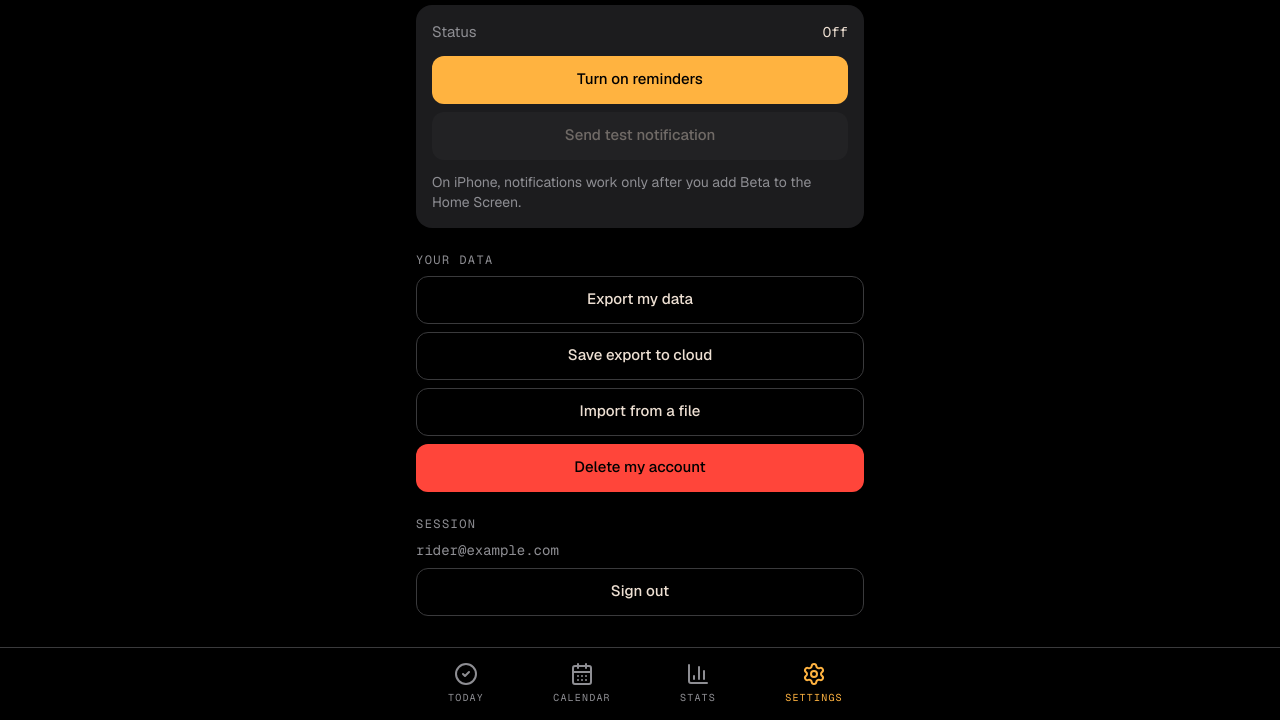
it: Settings › delete account › takes the password and signs out afterwards
(page scrolled)
Click the 6th button named "Delete my account" at (640, 468), box 416,444 -> 864,492
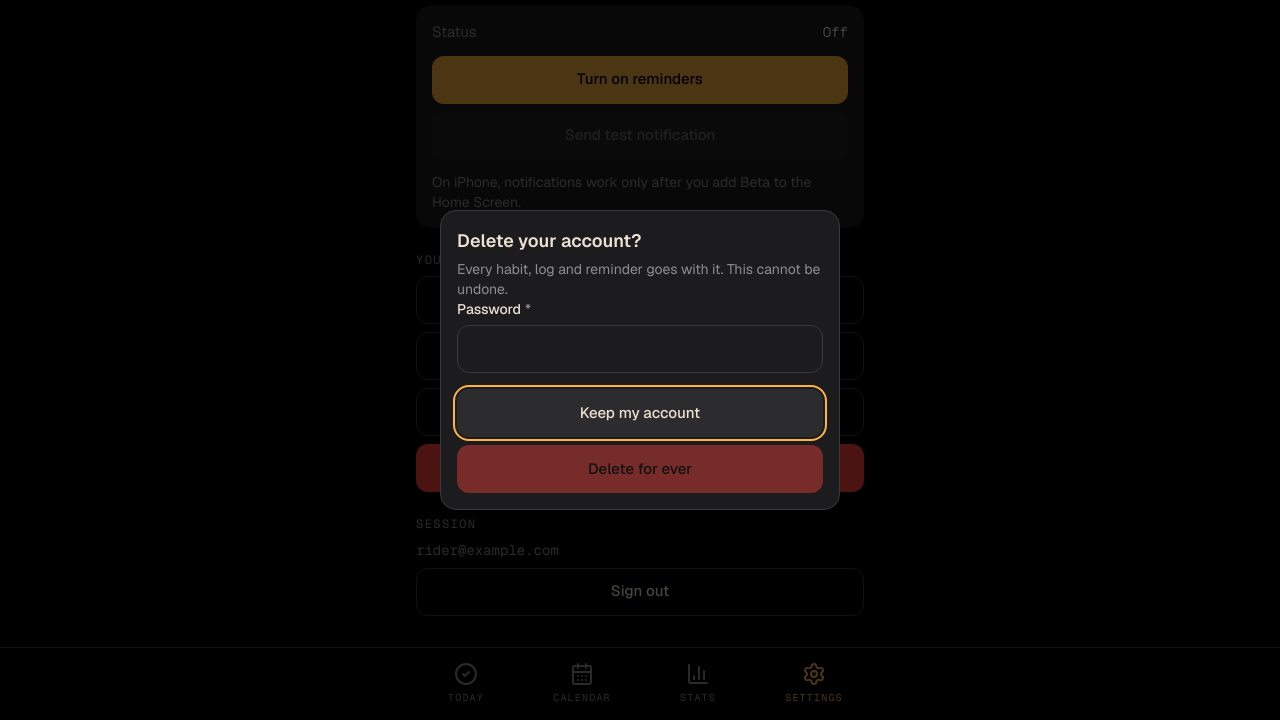
Now the button "Delete for ever" is disabled, box 457,445 -> 823,493
Type "correct-horse-battery" into the password field labelled "Password*" at (640, 349), box 457,325 -> 823,373
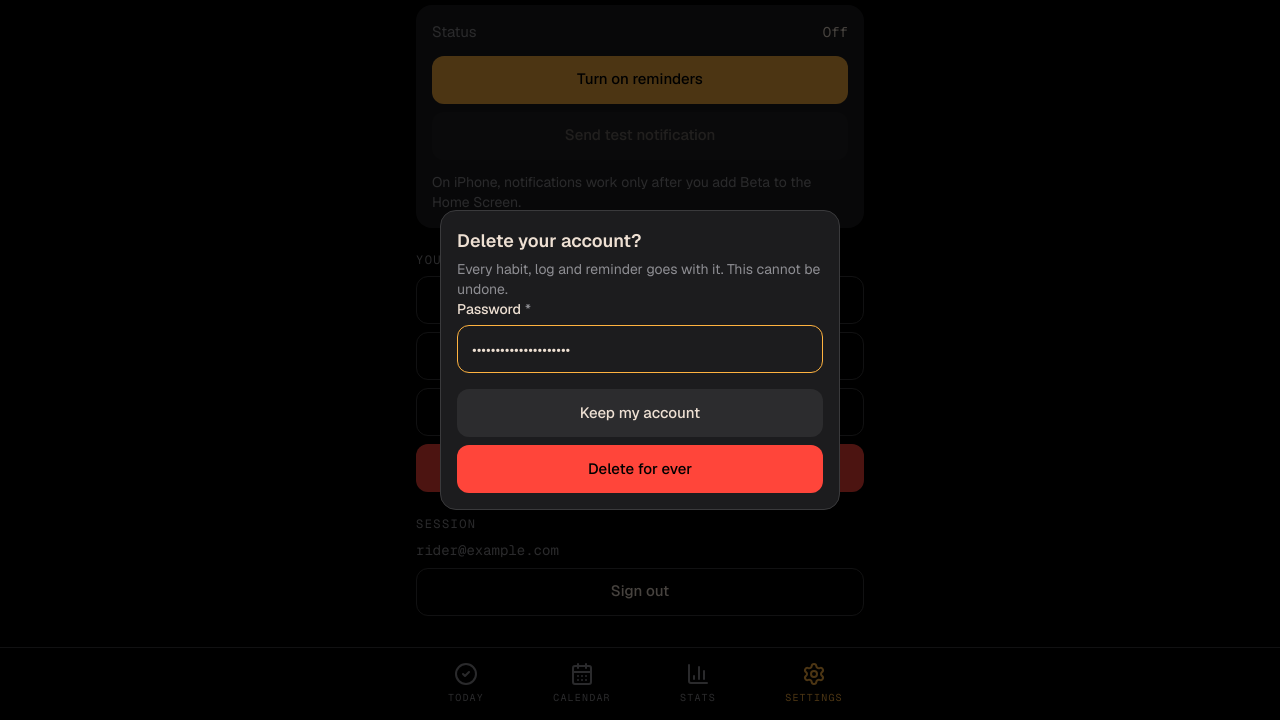
Click the button "Delete for ever" at (640, 469), box 457,445 -> 823,493
(page scrolled)
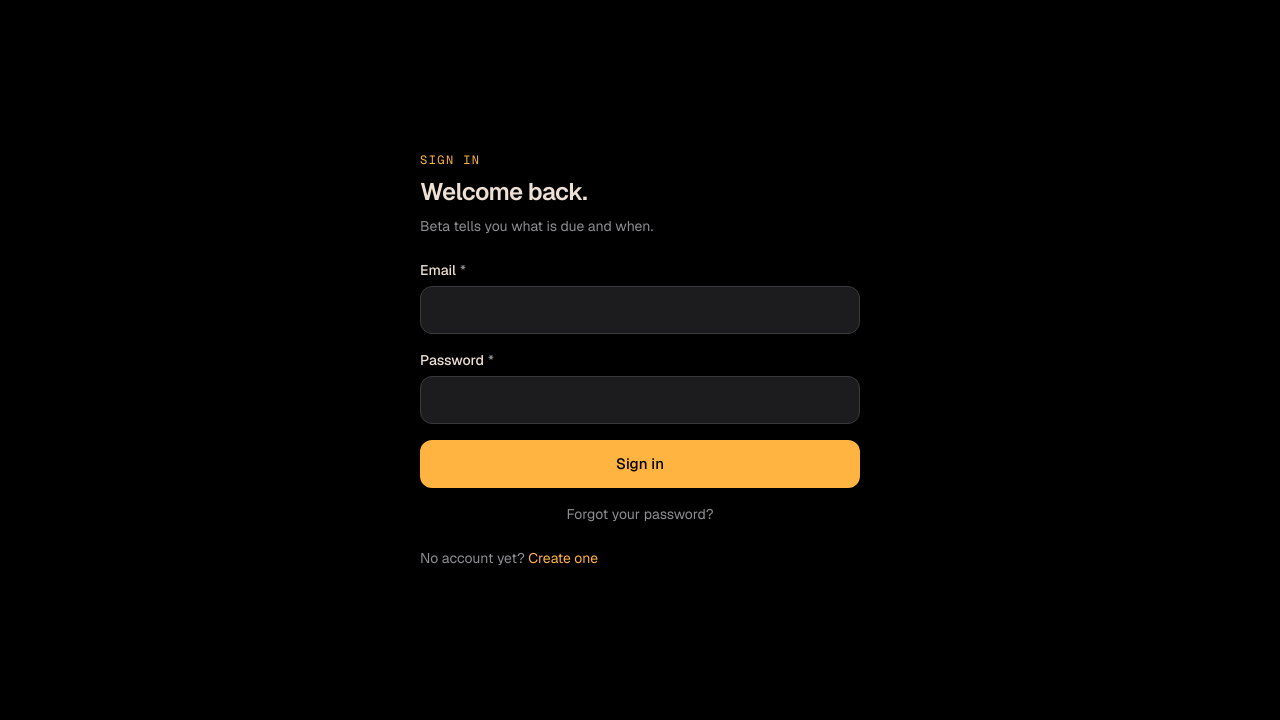
Now the heading "Welcome back." is shown, box 420,176 -> 587,207
